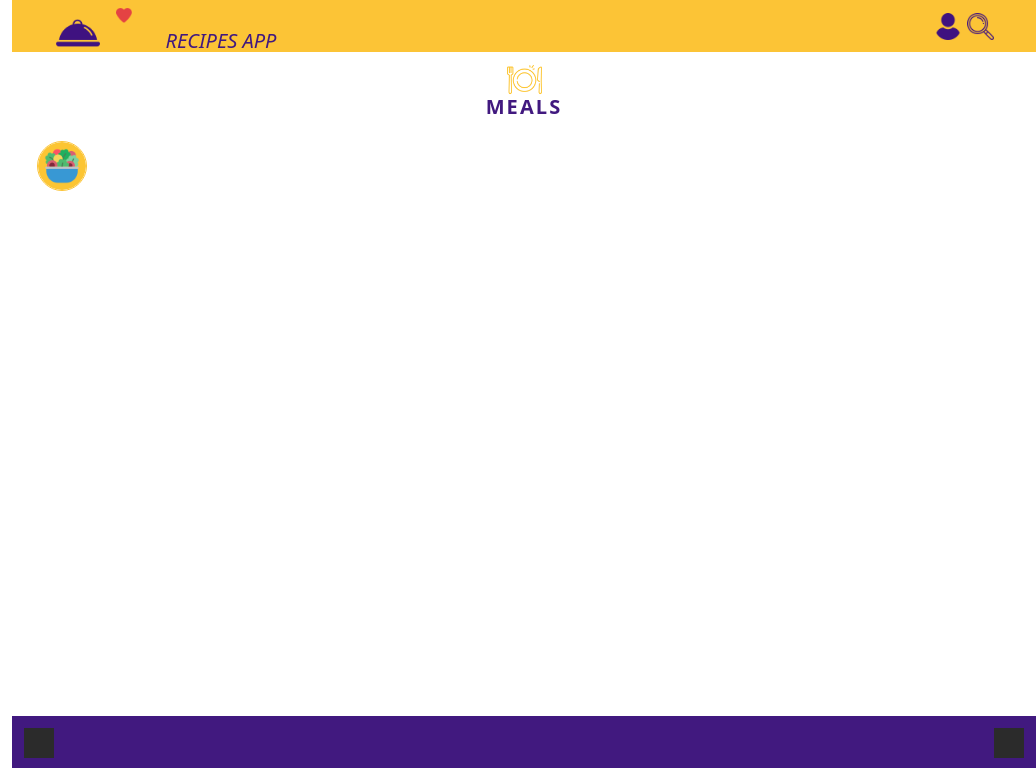
Test: Testes relacionados ao componente Header › Testa se renderiza o input de pesquisa
Click the button with test id "search-top-btn".
click(981, 26)  # box [961,11,1000,40]
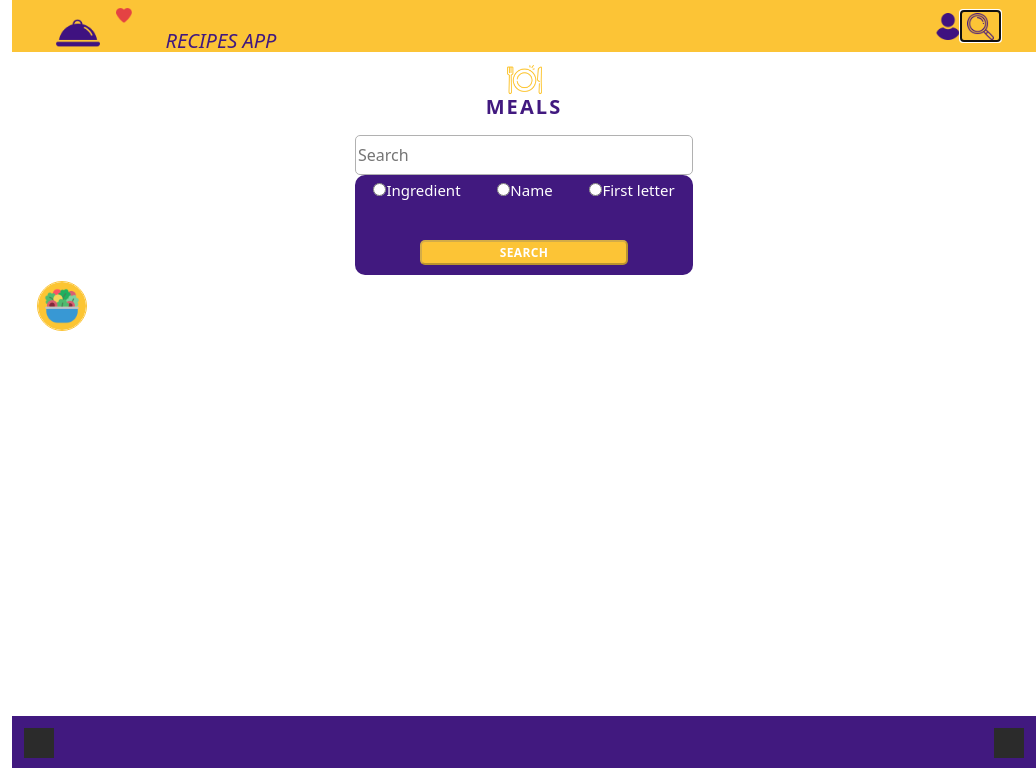
Check: the field with test id "search-input" is shown, box [355,135,693,175]
